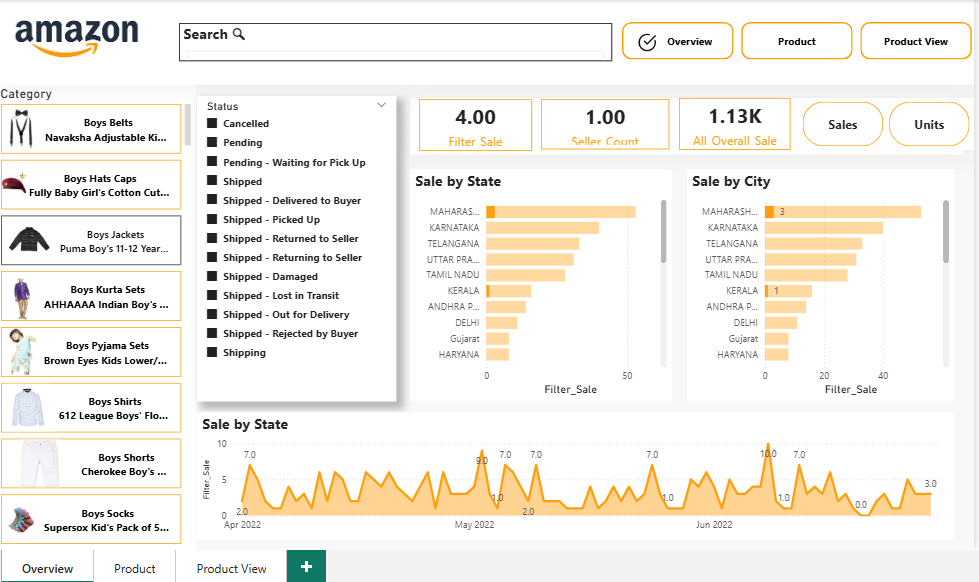

The page's visual inventory and layout, read from the dashboard file:
{"tool":"powerbi","page":{"name":"Overview","canvas":[1280,720],"ordinal":0},"visuals":[{"type":"shape","box":[542.4,127.8,723.8,74.3],"z":0},{"type":"advancedSlicerVisual","fields":{"Values":["amazon-fashion - YT.Category"]},"box":[0,111.5,261.7,607.9],"z":1000},{"type":"shape","box":[0,0,1280,111.5],"z":2000},{"type":"image","box":[0,0,211.3,101.4],"z":3000},{"type":"pageNavigator","box":[819.5,29.2,460.5,49.8],"z":4000},{"type":"image","box":[819.5,36.1,65.3,37.8],"z":5000},{"type":"slicer","fields":{"Values":["Amazon.Status"]},"box":[262.5,125.3,260.8,399.8],"z":6000},{"type":"card","fields":{"Values":["Amazon.Filter_Sale"]},"box":[553.6,129.7,147.9,68.2],"z":7000},{"type":"advancedSlicerVisual","fields":{"Values":["Sale_Option.Name"]},"box":[1050.6,128,229.4,68.2],"z":8000},{"type":"clusteredBarChart","title":"Sale by State","fields":{"Y":["Amazon.Filter_Sale"],"Category":["Amazon.ship-state"]},"box":[542.2,221.3,343.2,303.7],"z":9000},{"type":"clusteredBarChart","title":"Sale by City","fields":{"Y":["Amazon.Filter_Sale"],"Category":["Amazon.ship-state"]},"box":[904.2,221.3,350,303.7],"z":10000},{"type":"areaChart","title":"Sale by State","fields":{"Category":["Amazon.Date"],"Y":["Amazon.Filter_Sale"]},"box":[262.6,538.9,991.5,167.6],"z":11000},{"type":"slicer","title":"Search                       🔍︎","fields":{"Values":["amazon-fashion - YT.Category"]},"box":[239.4,29.9,566.9,49.9],"z":12000},{"type":"card","fields":{"Values":["amazon-fashion - YT.Seller_Count"]},"box":[713.1,129.7,167.9,66.5],"z":13000},{"type":"card","fields":{"Values":["Amazon.All_Overall_Sale"]},"box":[894.3,128,146.3,68.2],"z":14000}]}

Visuals, with their boxes on the page's 1280x720 design canvas (x1, y1, x2, y2). These are canvas units, not pixel positions in the 979x582 screenshot, which may show the page scaled, cropped or inside an application window:
shape: 542,128,1266,202
advancedSlicerVisual - amazon-fashion - YT.Category: 0,112,262,719
shape: 0,0,1280,112
image: 0,0,211,101
pageNavigator: 820,29,1280,79
image: 820,36,885,74
slicer - Amazon.Status: 262,125,523,525
card - Amazon.Filter_Sale: 554,130,702,198
advancedSlicerVisual - Sale_Option.Name: 1051,128,1280,196
"Sale by State" clusteredBarChart: 542,221,885,525
"Sale by City" clusteredBarChart: 904,221,1254,525
"Sale by State" areaChart: 263,539,1254,706
"Search                       🔍︎" slicer: 239,30,806,80
card - amazon-fashion - YT.Seller_Count: 713,130,881,196
card - Amazon.All_Overall_Sale: 894,128,1041,196
